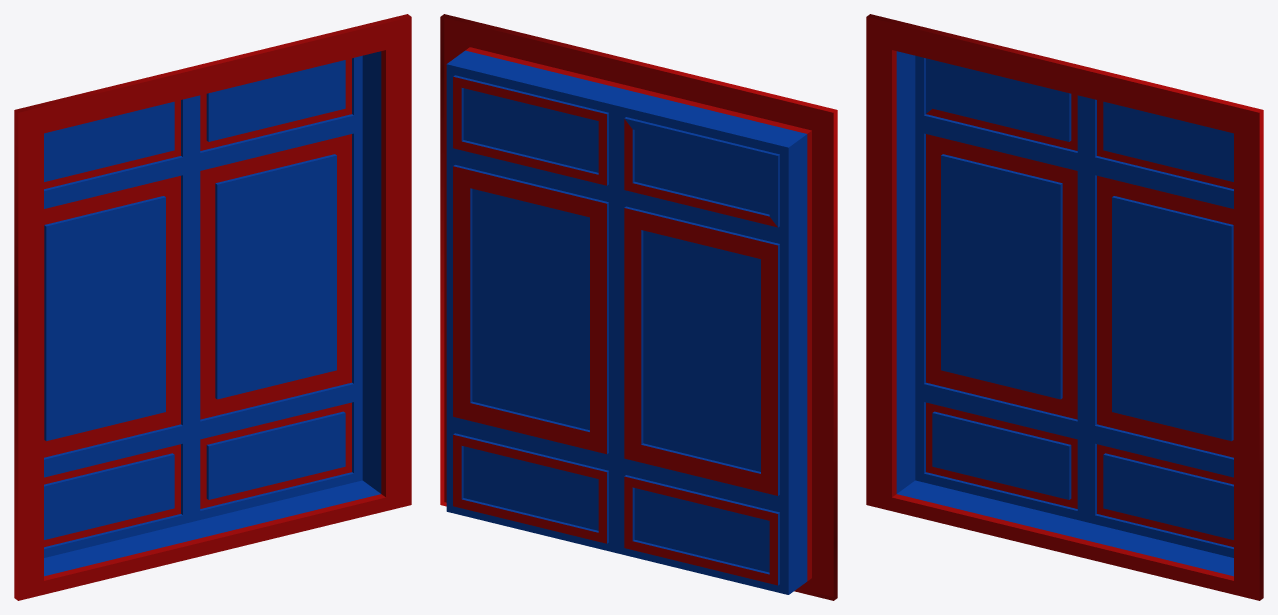
File: WindowsFirstFloor.fbx
3 views of the same model, side by side, from view 1: azimuth 30°, elevation 25°; view 2: azimuth 150°, elevation 25°; view 3: azimuth 330°, elevation 25° (orthographic).
Visible parts, largest first — view 1: WindowsFirstFloor; view 2: WindowsFirstFloor; view 3: WindowsFirstFloor.
Boxes of the visible parts, left/top/right/bottom form: WindowsFirstFloor: left=14, top=14, right=411, bottom=600; WindowsFirstFloor: left=440, top=14, right=837, bottom=600; WindowsFirstFloor: left=866, top=14, right=1263, bottom=600.
Size of the model in its own units: 230 by 273 by 25.65.
